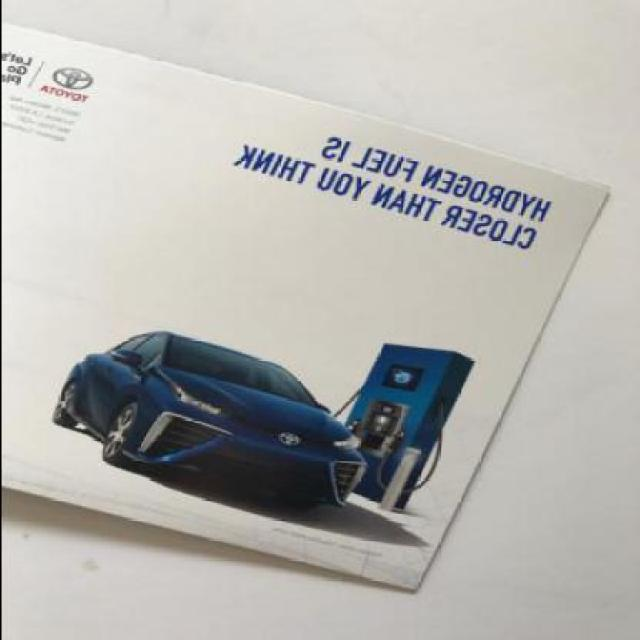paper: (2, 20, 604, 592)
